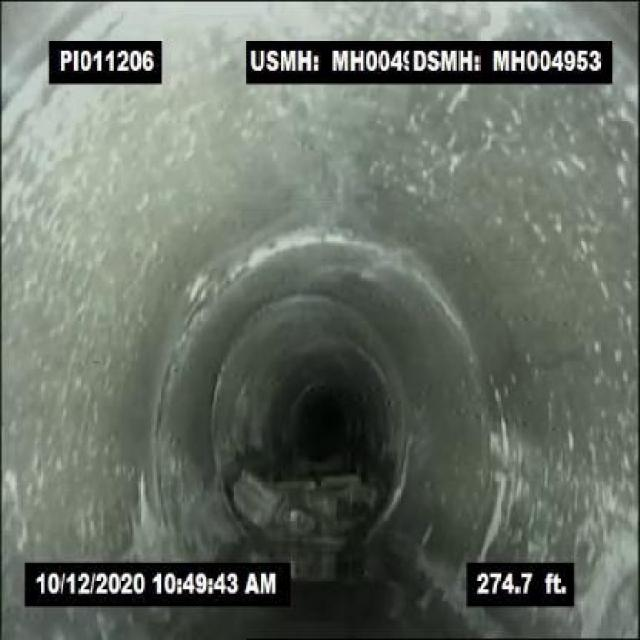Debris: (220, 423, 438, 565)
